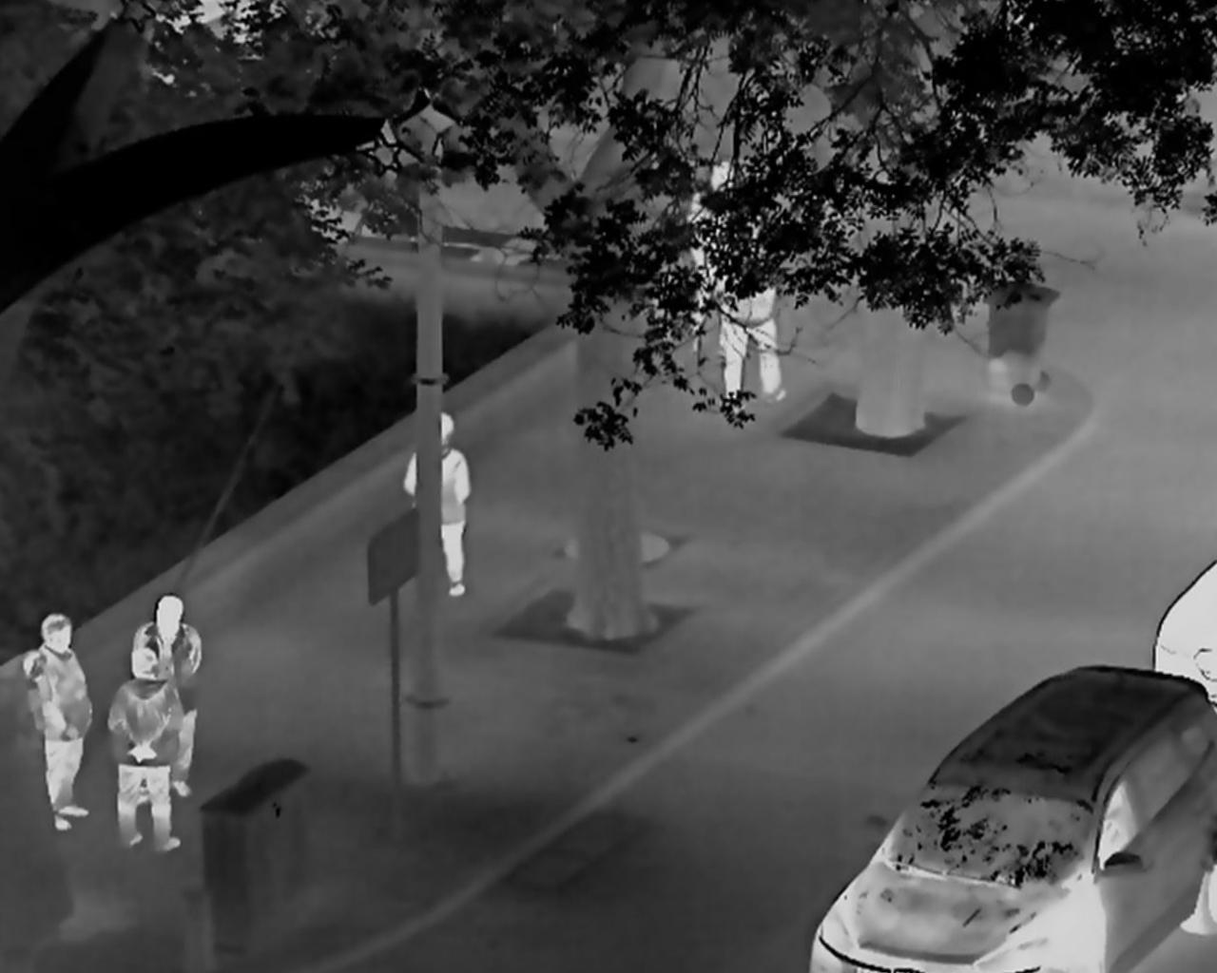person: (106, 646, 183, 853), (128, 593, 203, 800), (715, 208, 787, 414), (401, 411, 471, 598), (35, 612, 91, 832), (687, 161, 741, 352), (19, 649, 46, 743)
